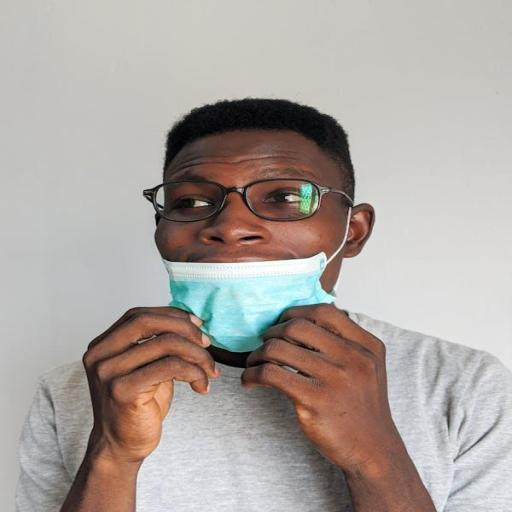mask: (132, 100, 385, 367)
